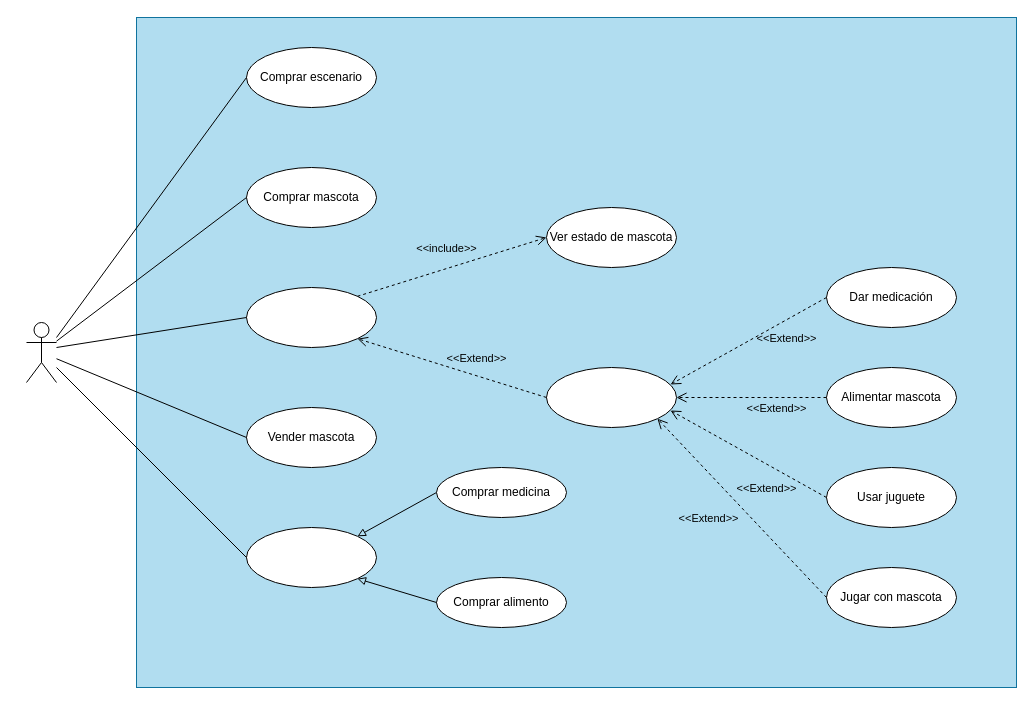
This 1034x705 diagram has some shape labels left out. Here are the shapes that lost their labels. From the top down, the box of each, then its label:
(246, 286, 376, 348): Cuidar mascota
(26, 322, 56, 382): Cuidador
(546, 366, 676, 428): Elegir acciones
(246, 526, 376, 588): Comprar en tienda
